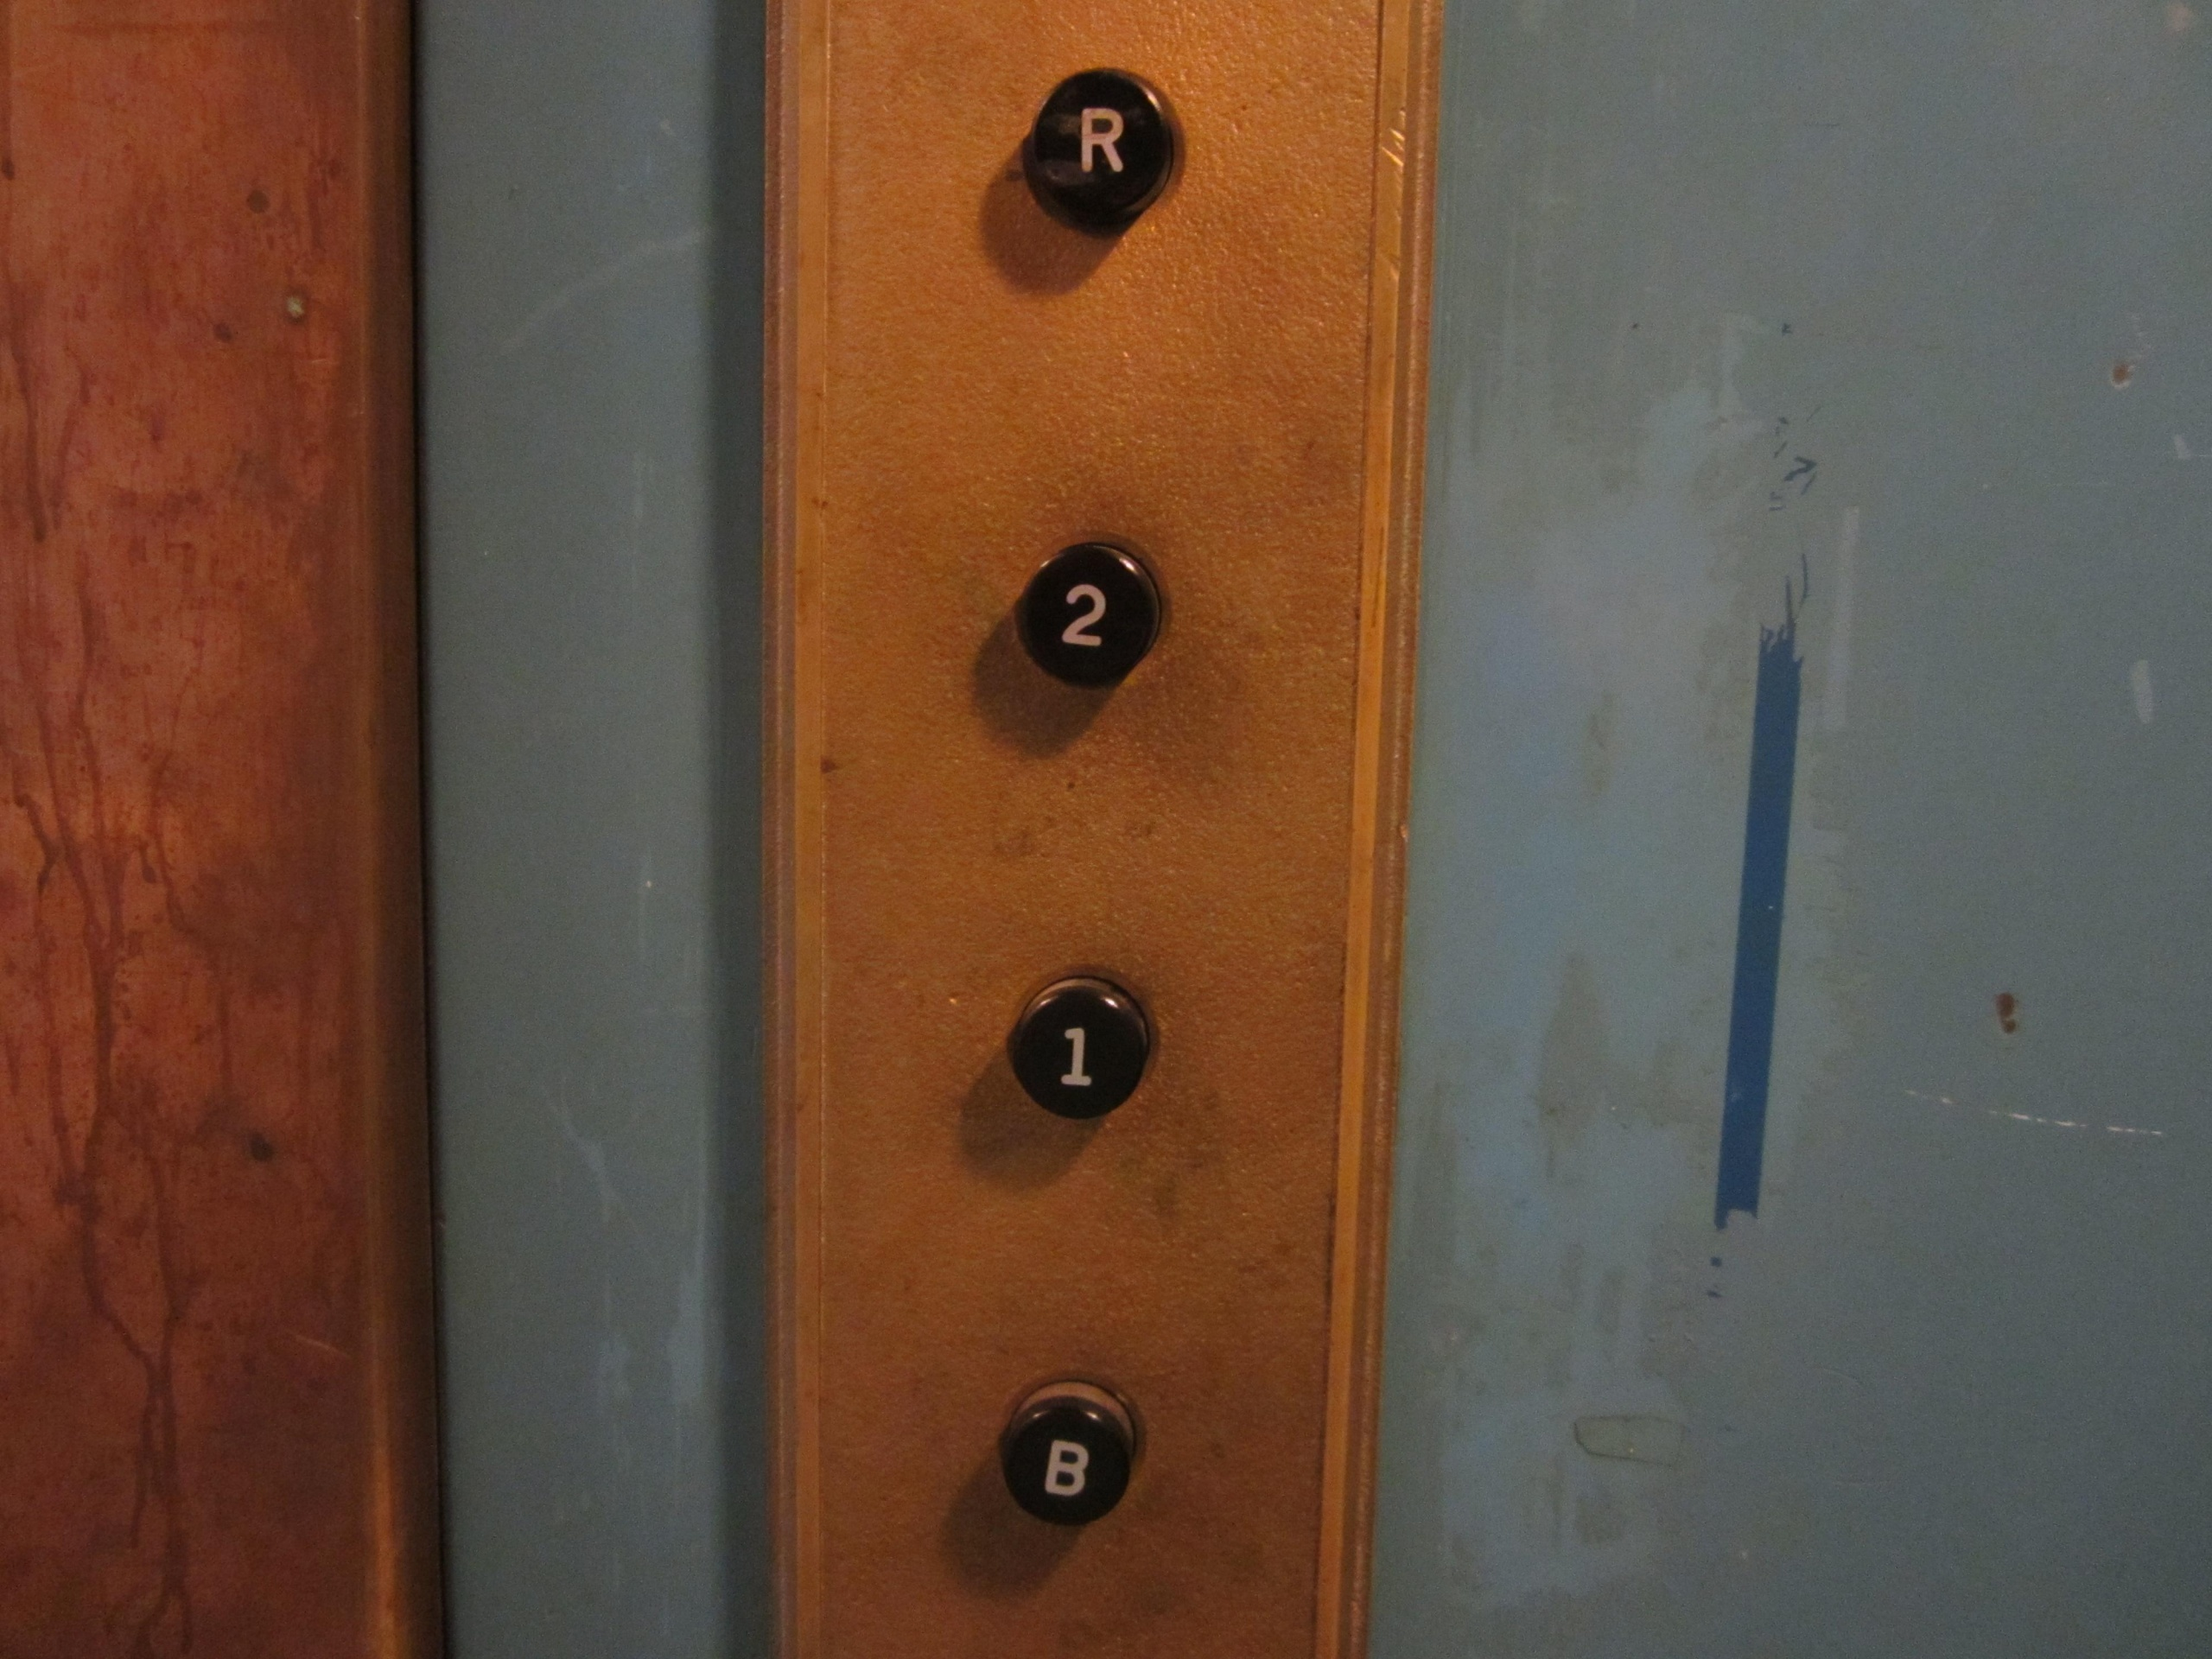1: (1007, 967, 1158, 1124)
2: (1012, 535, 1165, 694)
B: (995, 1380, 1141, 1532)
R: (1024, 58, 1184, 228)
